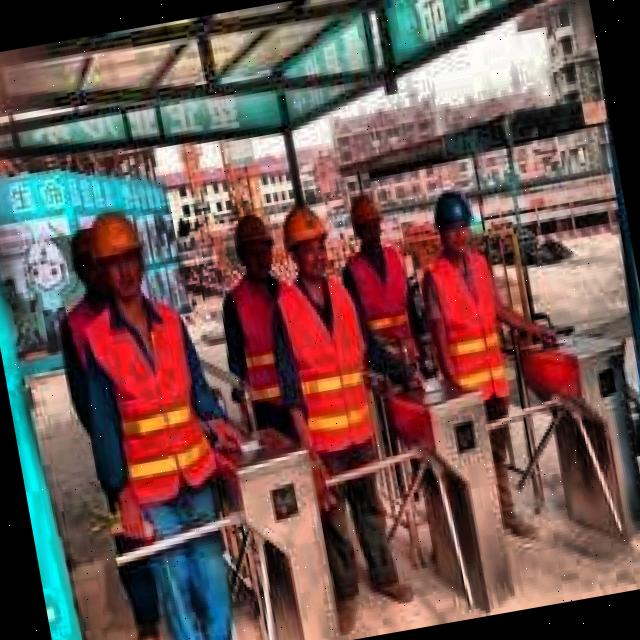helmet: (83, 204, 153, 304), (278, 202, 335, 282), (228, 208, 282, 282), (428, 186, 480, 259), (344, 186, 390, 249)
